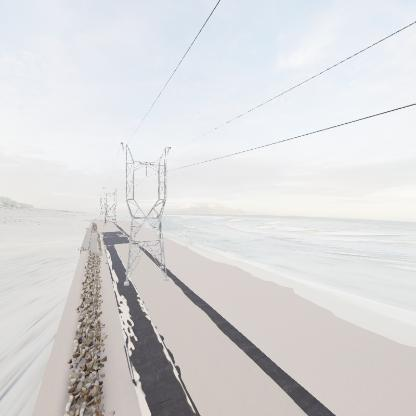tower: (117, 141, 177, 286)
